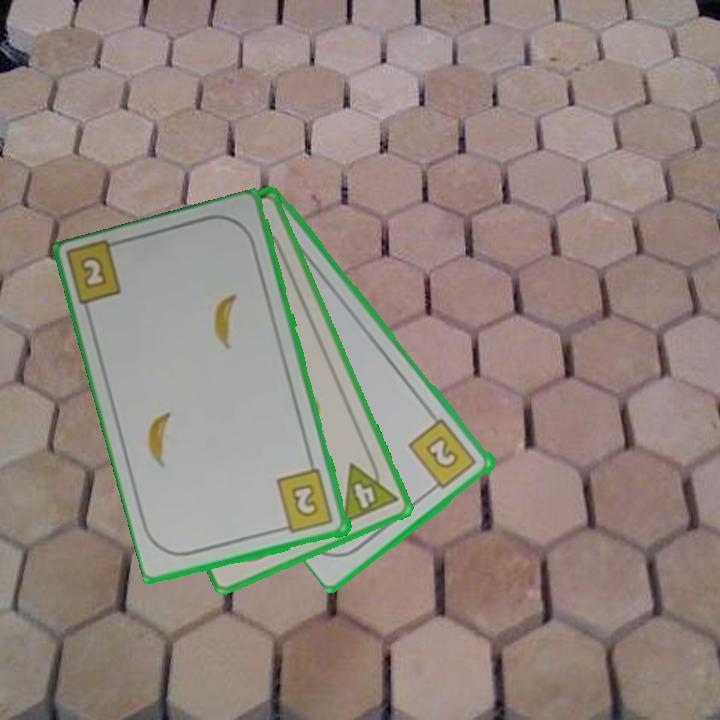2b: (405, 415, 480, 495), (273, 466, 337, 537), (76, 252, 111, 292)
4p: (339, 452, 401, 527)
